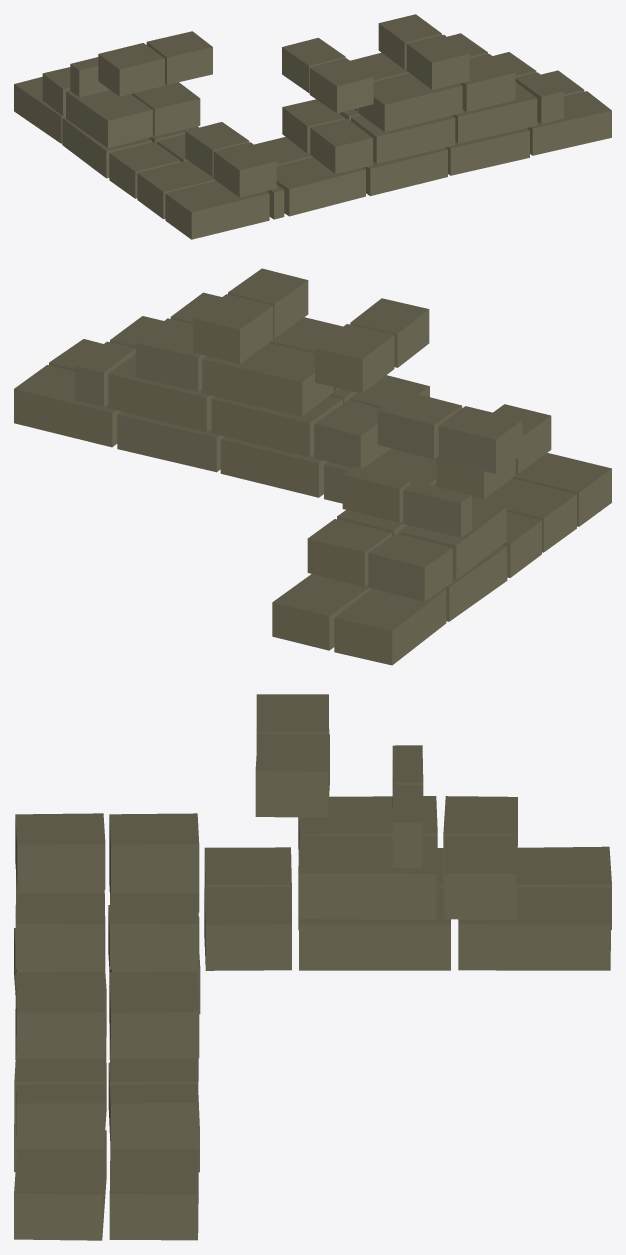
Rendered from SM_PretilEsquinaPaso_v1_Talud_e0_Sano_LOD0.fbx.
3 renders of one model, top to bottom at view 1: azimuth 30°, elevation 25°; view 2: azimuth 150°, elevation 25°; view 3: azimuth 270°, elevation 25°, orthographic. The views are drawn at different scales.
Parts seen in each view (by area): view 1: SM_pretil_azotea_v44_LOD0; view 2: SM_pretil_azotea_v44_LOD0; view 3: SM_pretil_azotea_v44_LOD0.
Part boxes in pixels (x1,y1,x2,y2): SM_pretil_azotea_v44_LOD0: (14, 14, 611, 239); SM_pretil_azotea_v44_LOD0: (14, 268, 611, 665); SM_pretil_azotea_v44_LOD0: (14, 694, 611, 1240).
Size of the model in its own units: 4.38 by 1.17 by 3.18.
